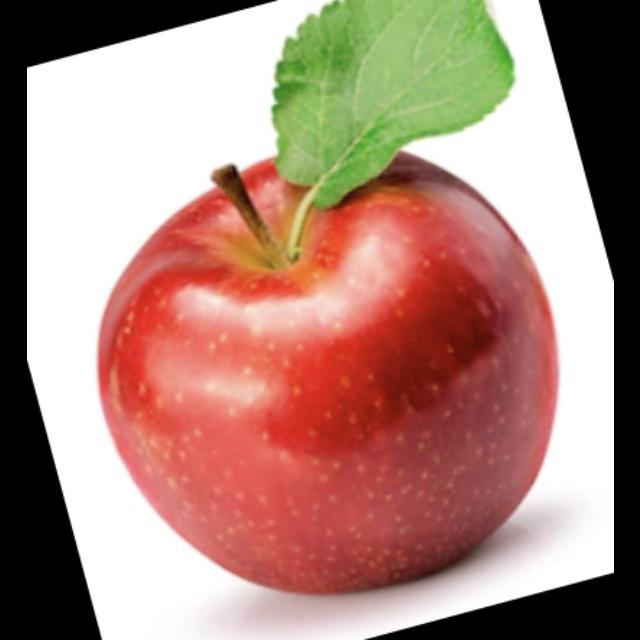Apel Segar: (100, 140, 564, 602)
